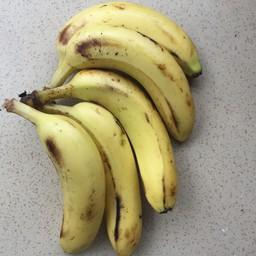Banana Ripe: (31, 61, 190, 216), (37, 30, 204, 140), (11, 85, 112, 256), (59, 82, 154, 256), (31, 0, 208, 83)
